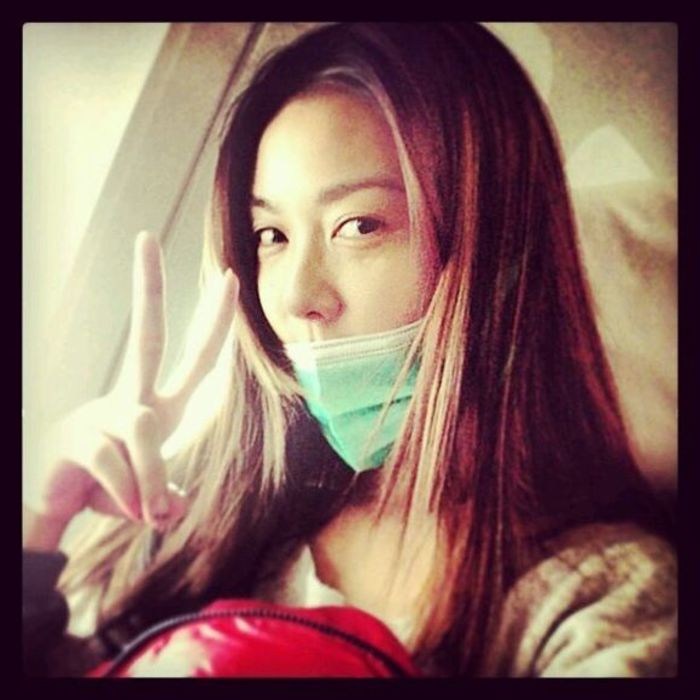face_mask: (239, 85, 461, 439)
